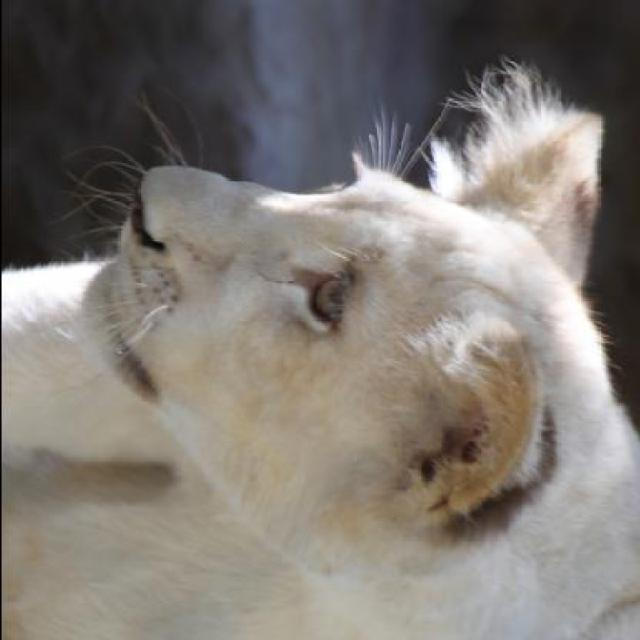Lion: (0, 58, 634, 628)
